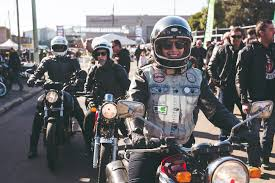helmet: (147, 13, 200, 69), (90, 39, 118, 67), (48, 33, 76, 60)
